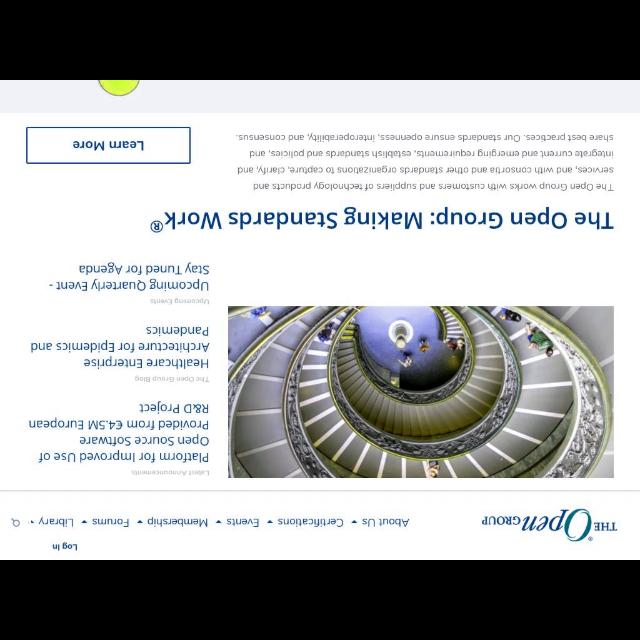icon: (10, 518, 22, 526), (80, 518, 86, 526), (349, 520, 357, 526), (137, 520, 145, 524), (215, 520, 223, 524), (266, 519, 272, 523)
image: (227, 307, 613, 478), (482, 508, 626, 538)
spinner: (266, 517, 342, 527), (136, 517, 208, 527), (82, 514, 128, 528), (351, 518, 409, 528), (27, 516, 75, 528), (215, 516, 261, 526)
text: (235, 134, 613, 192), (28, 402, 208, 466), (152, 210, 616, 232), (31, 323, 210, 369), (48, 261, 210, 291), (148, 296, 212, 310), (129, 468, 211, 478), (278, 516, 344, 528), (133, 375, 211, 383), (360, 518, 410, 530), (92, 516, 128, 528), (150, 520, 208, 526), (51, 542, 80, 554), (40, 518, 74, 528), (226, 519, 260, 527)
textbutton: (27, 127, 189, 163)
